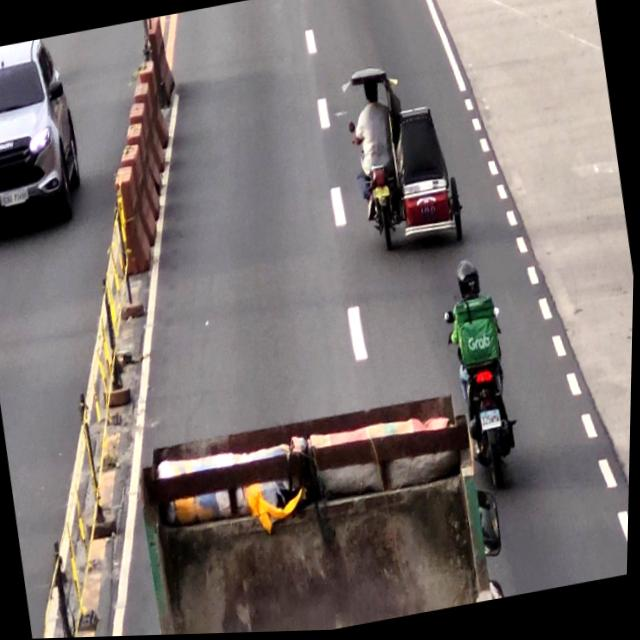License-Plate: (479, 410, 505, 435), (373, 186, 391, 203)
Motorcycle: (442, 266, 527, 502)
Tricycle: (345, 68, 459, 260)
Truck: (139, 397, 489, 637)
